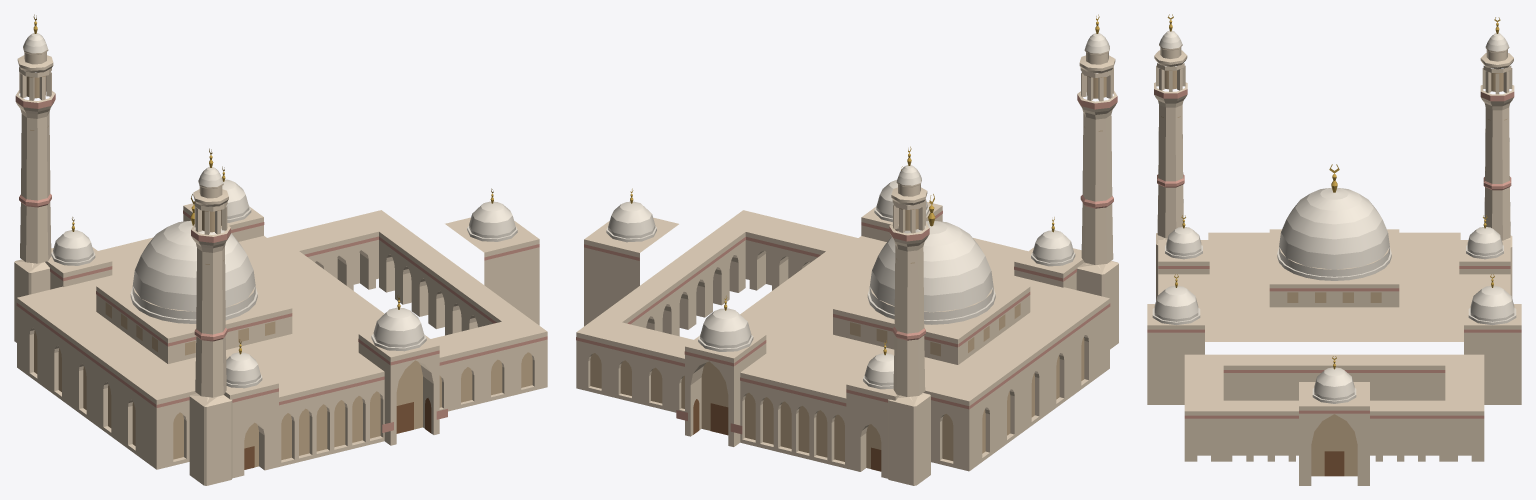
Rendered from manama-al-fateh-mosque.glb.
The picture shows the model from 3 angles, left to right: view 1: azimuth 30°, elevation 25°; view 2: azimuth 150°, elevation 25°; view 3: azimuth 270°, elevation 25°; orthographic projection. The views are drawn at different scales.
Visible parts, largest first — view 1: Al Fateh Grand Mosque; view 2: Al Fateh Grand Mosque; view 3: Al Fateh Grand Mosque.
Boxes of the visible parts, x1,y1,x2,y2 form: Al Fateh Grand Mosque: (14,14,547,485); Al Fateh Grand Mosque: (576,14,1118,485); Al Fateh Grand Mosque: (1147,14,1521,485).
Bounding box in the file's own units: 97.7 × 70.69 × 81.1.
